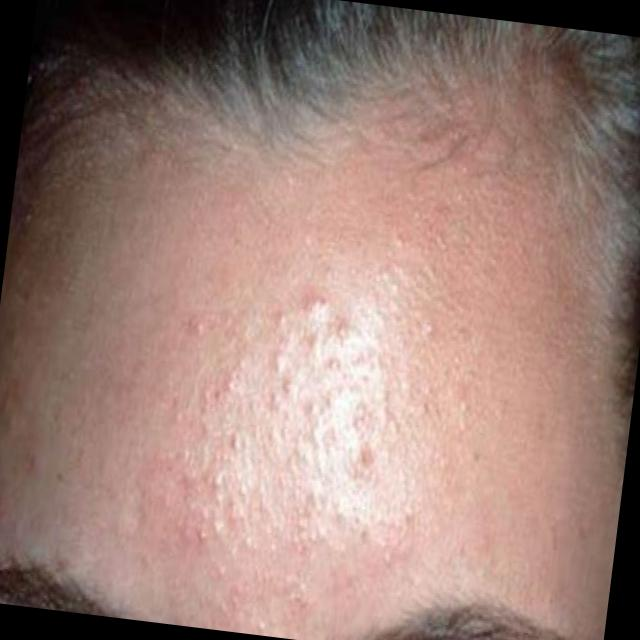fungal: (116, 253, 470, 620)
